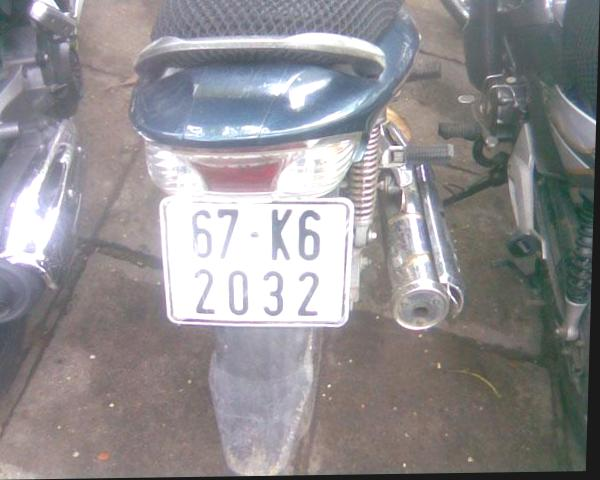License_Plate: (155, 191, 356, 332)
